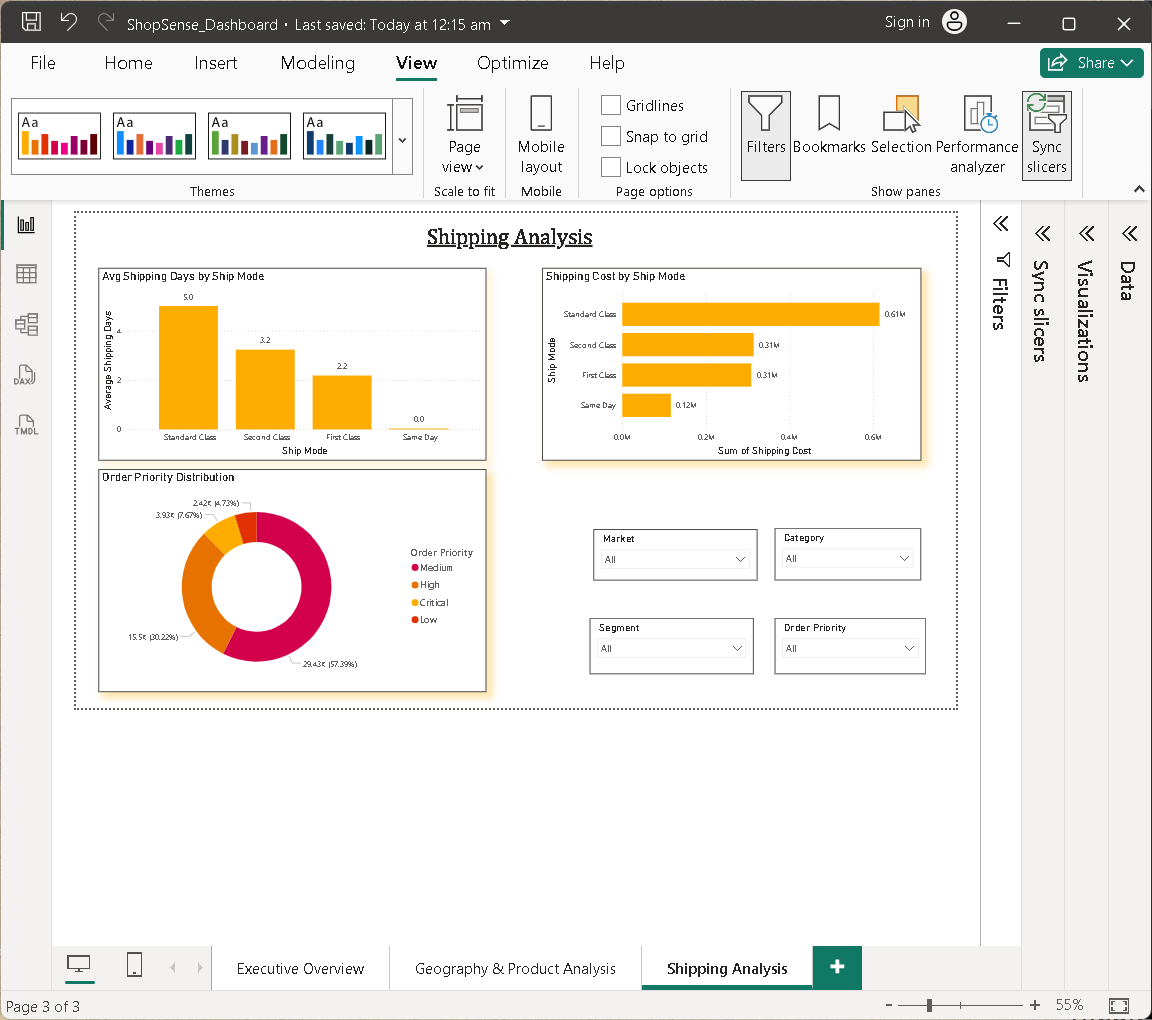

What the dashboard file says about the page in this screenshot:
{"tool":"powerbi","page":{"name":"Shipping Analysis","canvas":[1280,720],"ordinal":2},"visuals":[{"type":"clusteredColumnChart","title":"Avg Shipping Days by Ship Mode","fields":{"Category":["Global_Superstore_Cleaned.Ship Mode"],"Y":["Global_Superstore_Cleaned.Average Shipping Days"]},"box":[32.7,80,563.6,280],"z":0},{"type":"clusteredBarChart","title":"Shipping Cost by Ship Mode","fields":{"Category":["Global_Superstore_Cleaned.Ship Mode"],"Y":["Sum(Global_Superstore_Cleaned.Shipping Cost)"]},"box":[678.2,80,550.9,280],"z":1000},{"type":"donutChart","title":"Order Priority Distribution","fields":{"Category":["Global_Superstore_Cleaned.Order Priority"],"Y":["CountNonNull(Global_Superstore_Cleaned.Order ID)"]},"box":[32.7,372.7,563.6,323.6],"z":2000},{"type":"slicer","fields":{"Values":["Global_Superstore_Cleaned.Market"]},"box":[752.7,460,238.2,74.5],"z":3000},{"type":"slicer","fields":{"Values":["Global_Superstore_Cleaned.Category"]},"box":[1016.4,458.2,212.7,76.4],"z":4000},{"type":"slicer","fields":{"Values":["Global_Superstore_Cleaned.Segment"]},"box":[747.3,589.1,238.2,81.8],"z":5000},{"type":"slicer","fields":{"Values":["Global_Superstore_Cleaned.Order Priority"]},"box":[1016.4,589.1,220,81.8],"z":6000},{"type":"textbox","box":[32.7,12.7,1196.4,54.5],"z":7000}]}

Visuals, with their boxes on the page's 1280x720 design canvas (x1, y1, x2, y2). These are canvas units, not pixel positions in the 1152x1020 screenshot, which may show the page scaled, cropped or inside an application window:
"Avg Shipping Days by Ship Mode" clusteredColumnChart: [33, 80, 596, 360]
"Shipping Cost by Ship Mode" clusteredBarChart: [678, 80, 1229, 360]
"Order Priority Distribution" donutChart: [33, 373, 596, 696]
slicer - Global_Superstore_Cleaned.Market: [753, 460, 991, 534]
slicer - Global_Superstore_Cleaned.Category: [1016, 458, 1229, 535]
slicer - Global_Superstore_Cleaned.Segment: [747, 589, 986, 671]
slicer - Global_Superstore_Cleaned.Order Priority: [1016, 589, 1236, 671]
textbox: [33, 13, 1229, 67]
